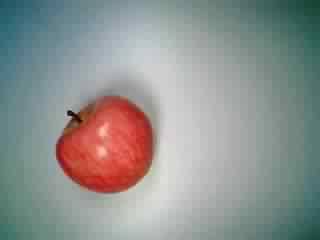apple: (53, 89, 157, 193)
